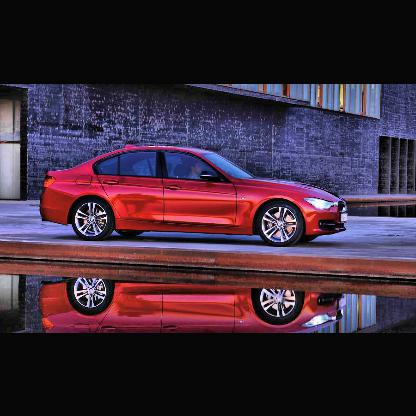BMW 3 Series Sedan 2012: (41, 144, 351, 249)
